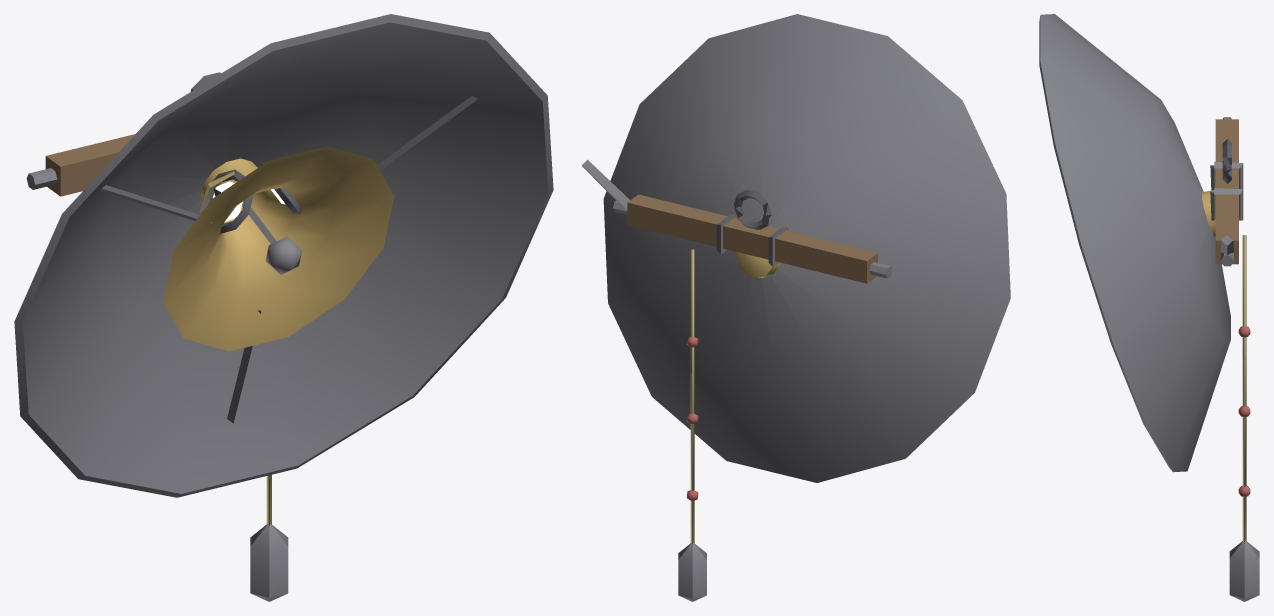
File: bell-sounding-bell.glb
3 renders of one model, left to right at view 1: azimuth 30°, elevation 25°; view 2: azimuth 150°, elevation 25°; view 3: azimuth 270°, elevation 25°, orthographic. The views are drawn at different scales.
Visible parts, largest first — view 1: bell_sounding_bell; view 2: bell_sounding_bell; view 3: bell_sounding_bell.
Boxes of the visible parts, x1,y1,x2,y2 form: bell_sounding_bell: [14, 14, 553, 601]; bell_sounding_bell: [582, 14, 1010, 601]; bell_sounding_bell: [1039, 14, 1259, 601].
Bounding box in the file's own units: 0.8059 × 0.9788 × 0.3629.
